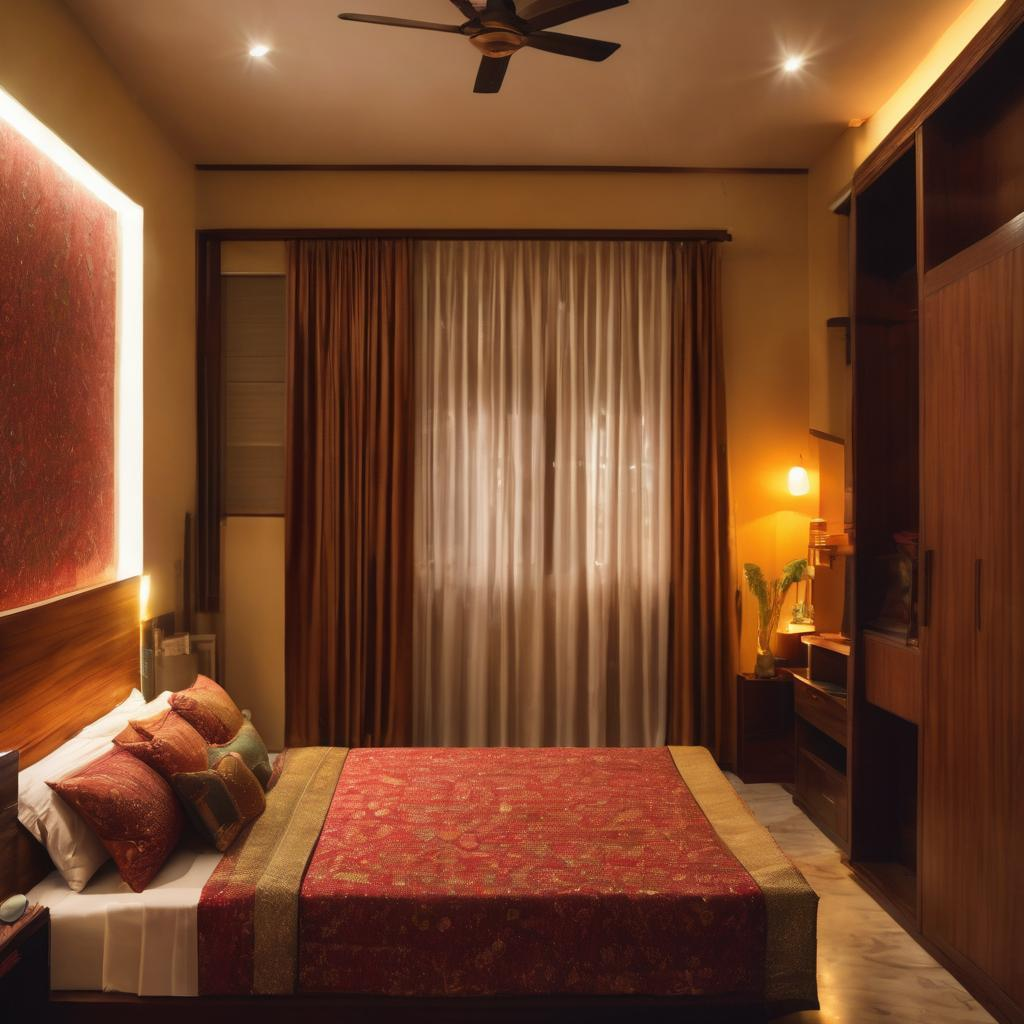bed: (0, 654, 834, 1024)
fan: (335, 0, 655, 108)
light: (785, 432, 820, 525), (138, 560, 168, 645), (778, 42, 820, 98), (248, 30, 278, 65)
